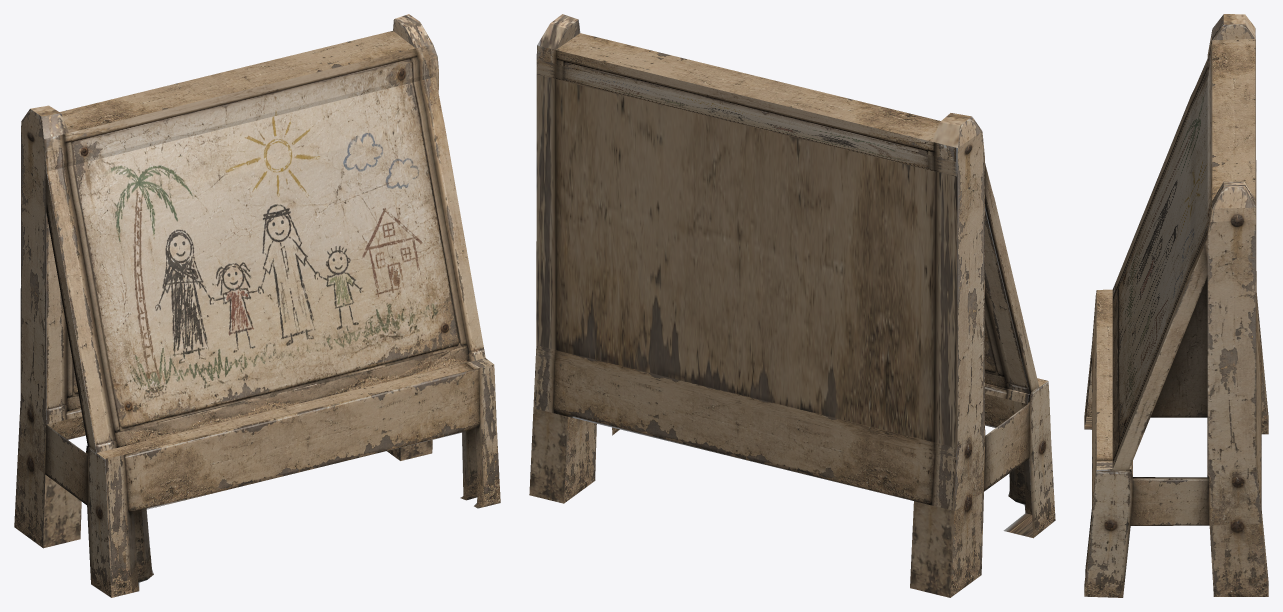
The model's file is ChildBoard.fbx.
3 renders of one model, left to right at view 1: azimuth 30°, elevation 25°; view 2: azimuth 150°, elevation 25°; view 3: azimuth 270°, elevation 25°, orthographic. The views are drawn at different scales.
Visible parts, largest first — view 1: Plane.001; view 2: Plane.001; view 3: Plane.001.
Boxes of the visible parts, <box> form: Plane.001: <box>14,14,500,597</box>; Plane.001: <box>529,14,1055,597</box>; Plane.001: <box>1084,14,1268,597</box>.
Size of the model in its own units: 295 by 309 by 126.
Materials: 1 (1 with a texture image).
